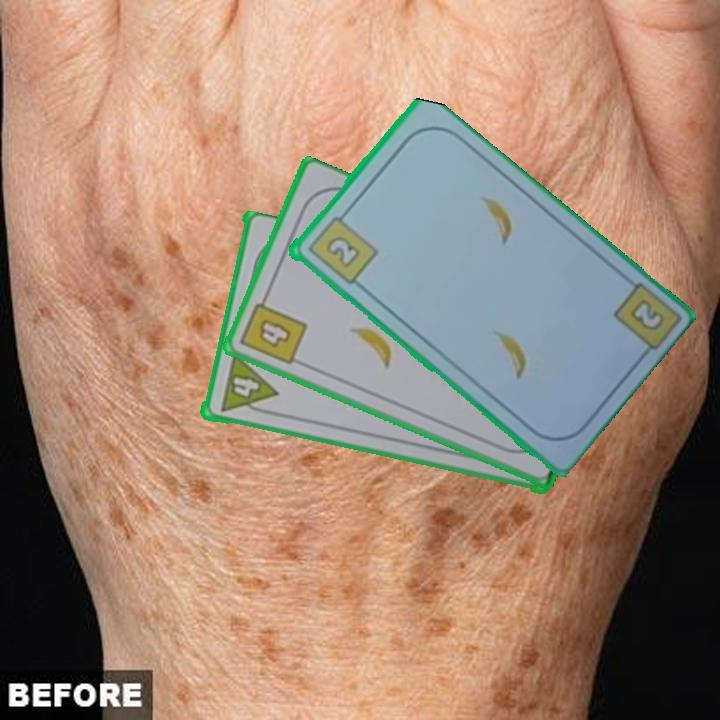2b: (303, 207, 380, 288), (625, 295, 667, 334)
4b: (236, 291, 310, 368)
4p: (216, 351, 279, 419)
